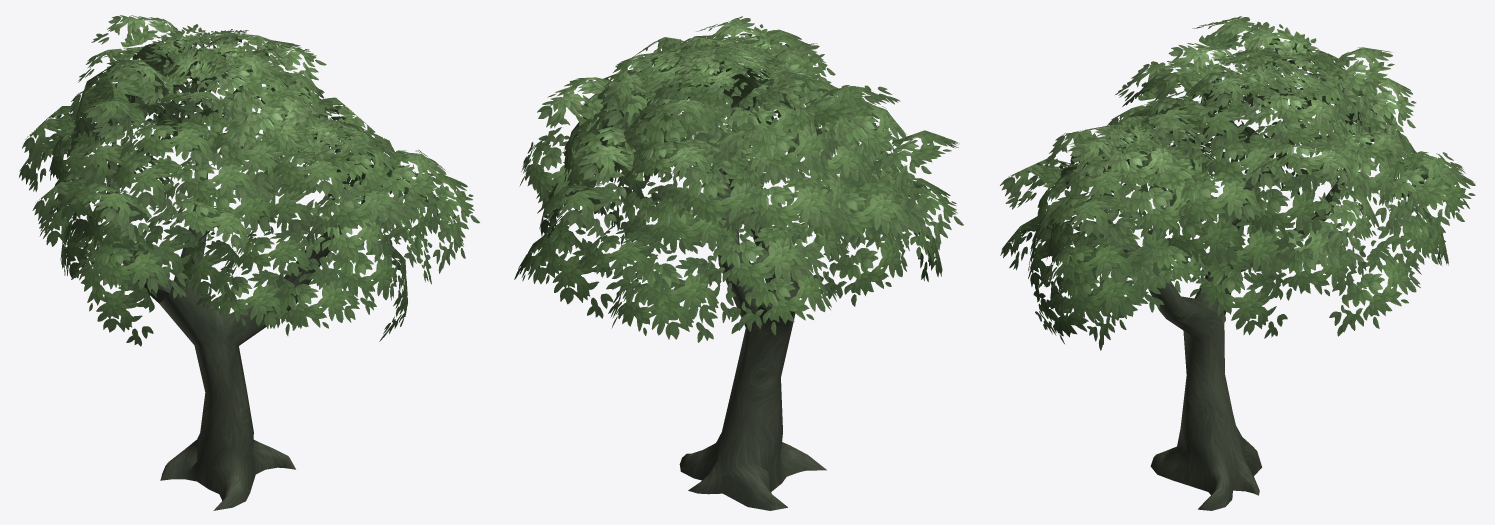
3 views of the same model, side by side, from view 1: azimuth 30°, elevation 25°; view 2: azimuth 150°, elevation 25°; view 3: azimuth 270°, elevation 25° (orthographic). The views are drawn at different scales.
Visible parts, largest first — view 1: Cylinder009; view 2: Cylinder009; view 3: Cylinder009.
Boxes of the visible parts, <box> form: Cylinder009: <box>19,15,479,510</box>; Cylinder009: <box>514,16,963,510</box>; Cylinder009: <box>1000,16,1475,510</box>.
Size of the model in its own units: 5.54 by 5.99 by 6.13.
3 materials, 3 textured.
